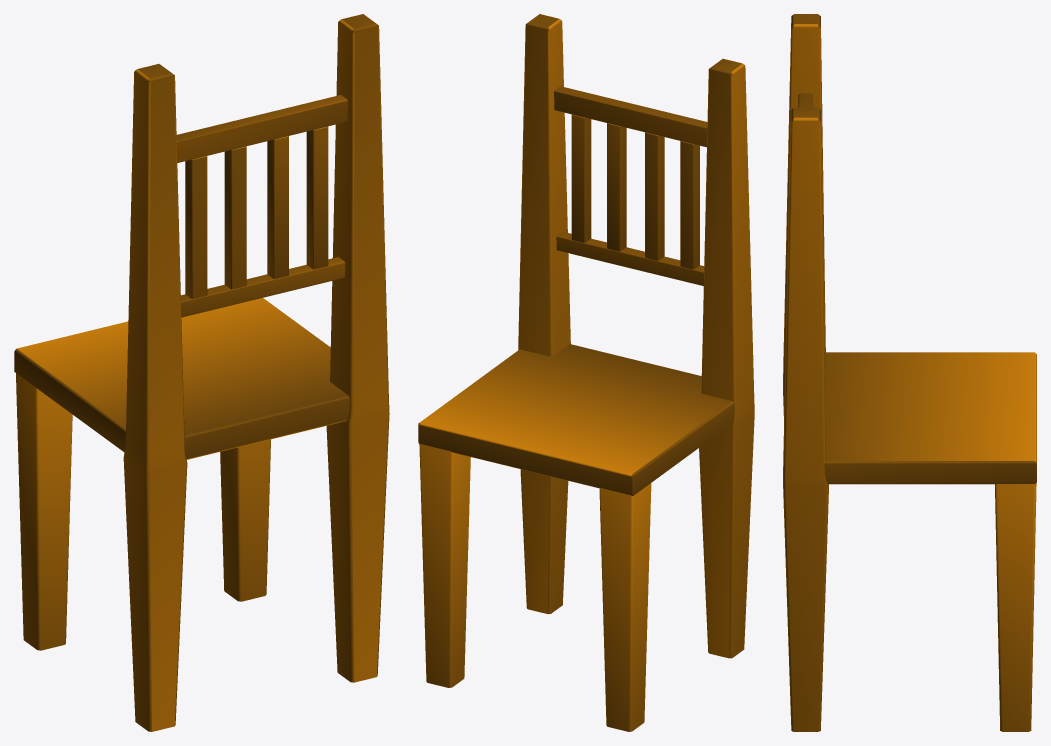
File: Chair.fbx
3 views of the same model, side by side, from view 1: azimuth 30°, elevation 25°; view 2: azimuth 150°, elevation 25°; view 3: azimuth 270°, elevation 25° (orthographic). The views are drawn at different scales.
Parts seen in each view (by area): view 1: chair1; view 2: chair1; view 3: chair1.
Part boxes in pixels (x1=…): chair1: x1=14, y1=14, x2=389, y2=731; chair1: x1=418, y1=14, x2=754, y2=731; chair1: x1=783, y1=14, x2=1036, y2=731.
Size of the model in its own units: 45.36 by 116 by 43.38.
